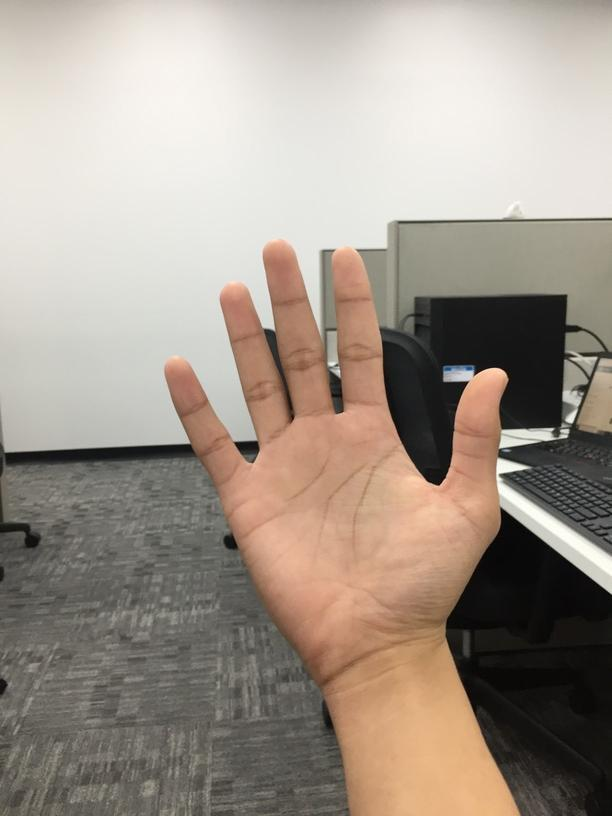hand: (159, 237, 513, 673)
